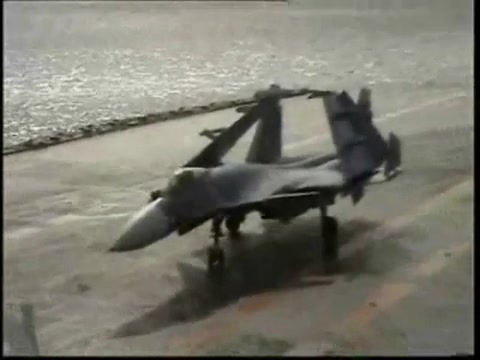aeroplane: (110, 84, 405, 267)
